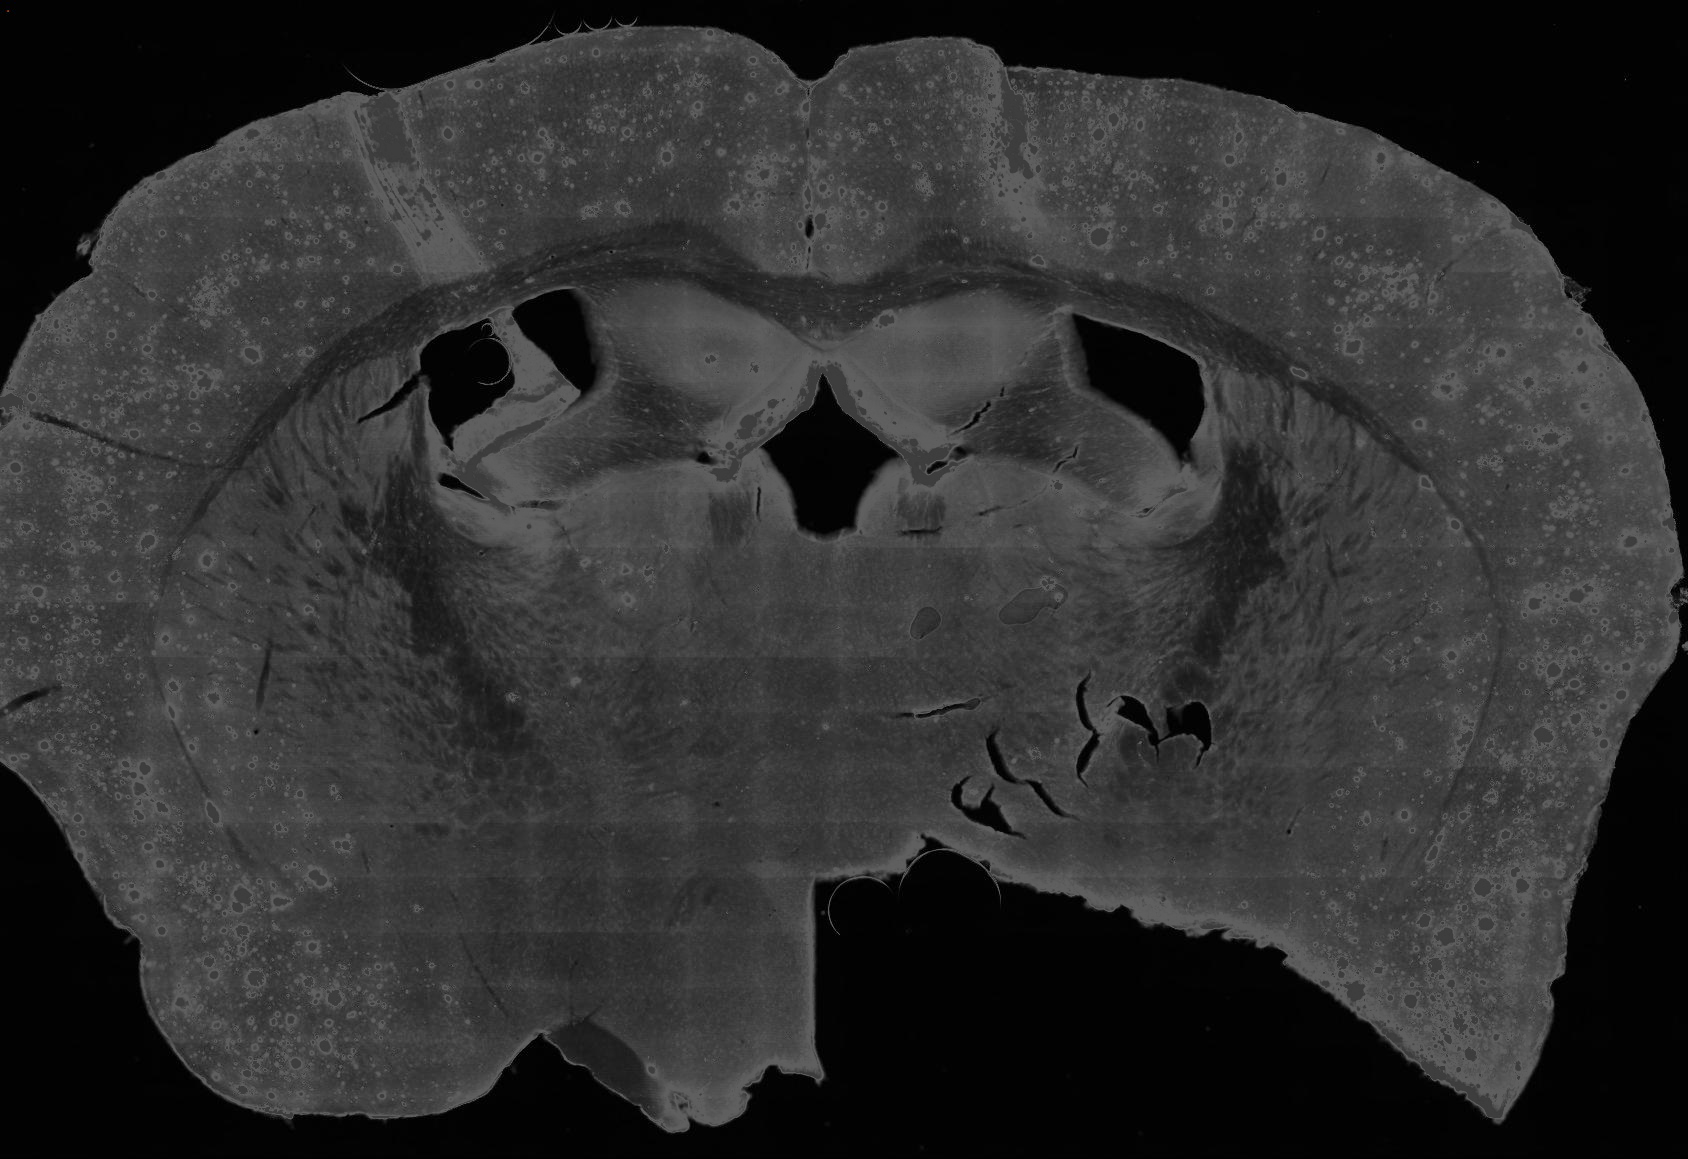Cerebral nuclei: (1213, 358, 1501, 887), (151, 347, 417, 895)
Hippocampal formation: (823, 287, 1062, 468), (605, 277, 823, 460)
Hypothalamus: (478, 747, 827, 1142)
Retrosplenial area: (808, 36, 956, 285), (681, 26, 808, 277)
Somatosensory area: (1, 104, 428, 471), (1160, 85, 1574, 429)
Thalamus: (436, 451, 827, 822), (825, 454, 1212, 823)
